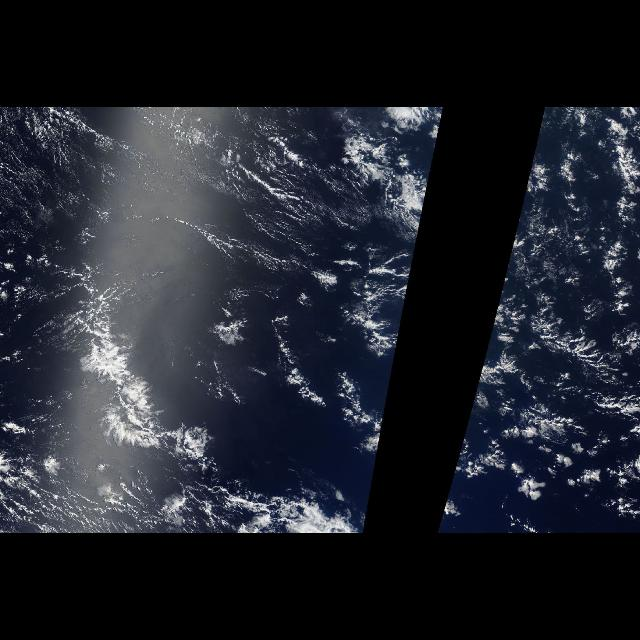Fish: (42, 274, 260, 488)
Sugar: (6, 112, 326, 280)
